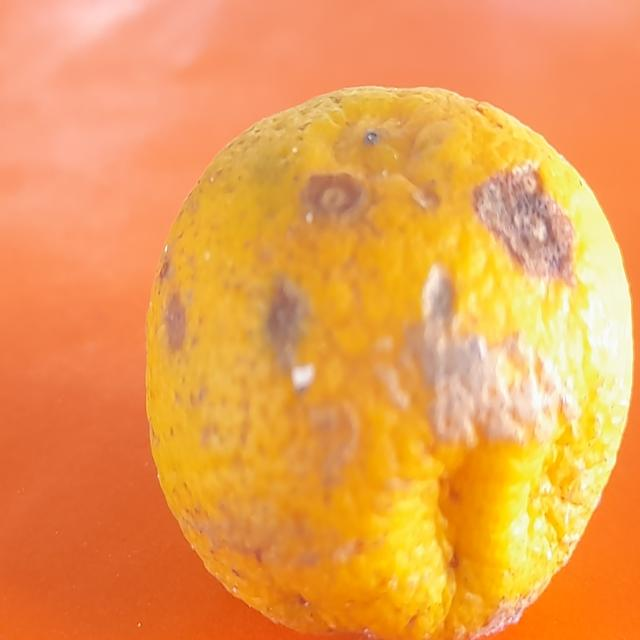black spot: (137, 89, 638, 612)
